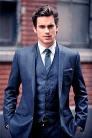male: (31, 4, 60, 45)
